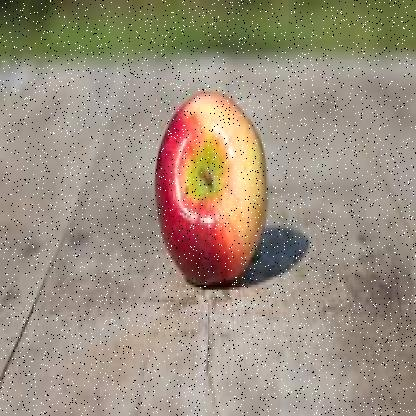apple: (157, 92, 269, 292)
